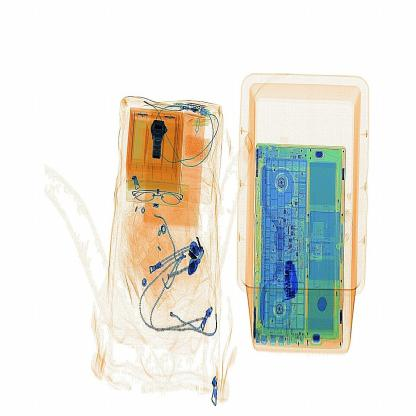scissors: (274, 257, 303, 301)
